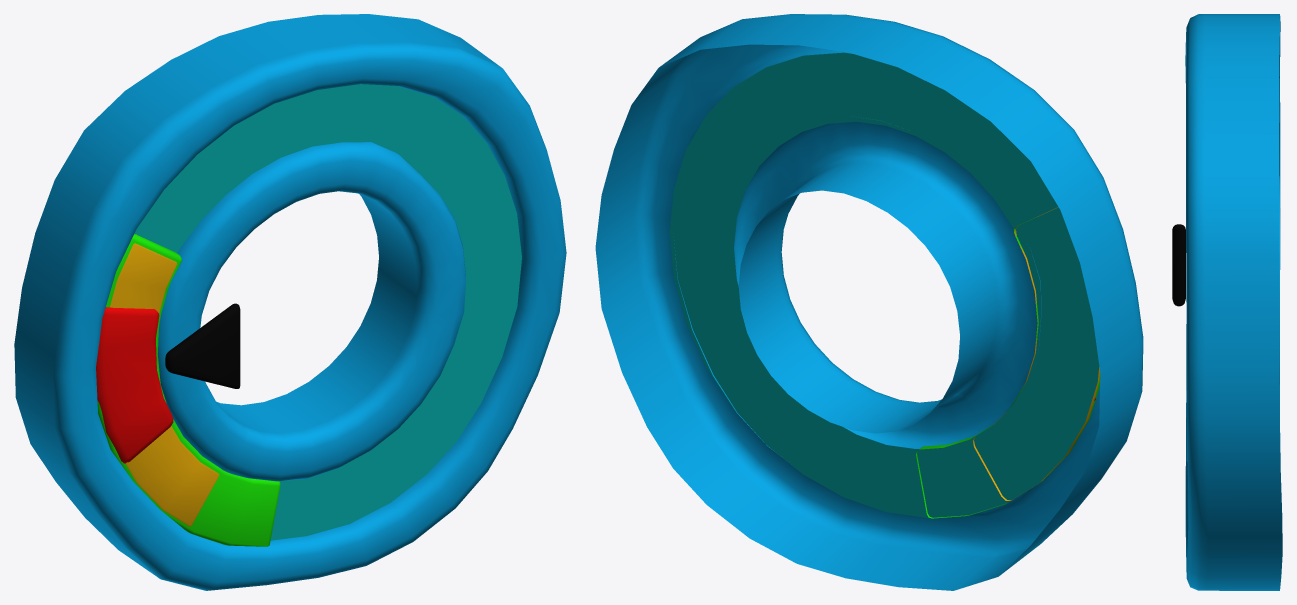
Rendered from qte_roue_v2.fbx.
The picture shows the model from 3 angles, left to right: view 1: azimuth 30°, elevation 25°; view 2: azimuth 150°, elevation 25°; view 3: azimuth 270°, elevation 25°; orthographic projection. The views are drawn at different scales.
Visible parts, largest first — view 1: qte_roue, zone_difficile, zone_moyen, zone_facile, aiguille; view 2: qte_roue, zone_facile, zone_moyen; view 3: qte_roue, aiguille.
Boxes of the visible parts, bbox=[...] form: qte_roue: bbox=[14, 14, 566, 590]; zone_difficile: bbox=[96, 307, 173, 463]; zone_moyen: bbox=[110, 234, 219, 526]; zone_facile: bbox=[97, 234, 280, 546]; aiguille: bbox=[165, 303, 240, 388]; qte_roue: bbox=[595, 14, 1143, 590]; zone_facile: bbox=[916, 217, 1100, 518]; zone_moyen: bbox=[973, 207, 1100, 500]; qte_roue: bbox=[1185, 14, 1282, 590]; aiguille: bbox=[1172, 224, 1185, 306].
Size of the model in its own units: 225 by 225 by 43.9.
